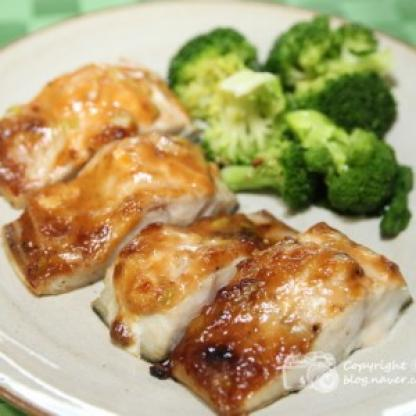Peixe: (0, 61, 403, 416)
